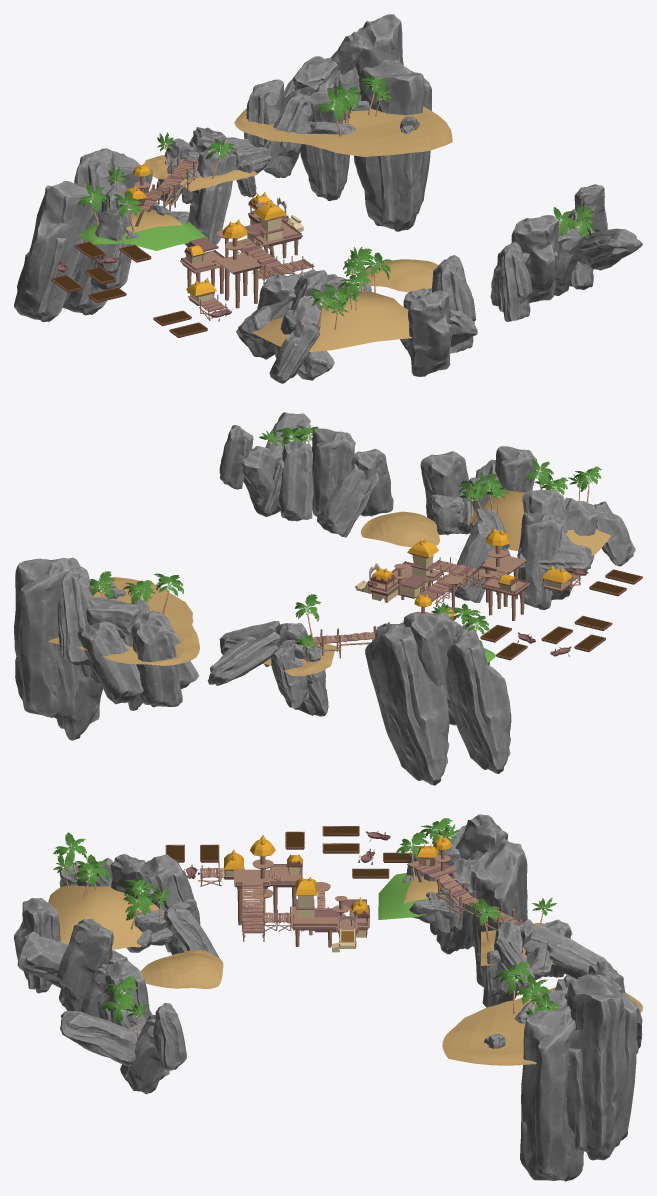
The model's file is Cattac_ChinampasLevel.fbx.
3 views of the same model, one above another, from view 1: azimuth 30°, elevation 25°; view 2: azimuth 150°, elevation 25°; view 3: azimuth 270°, elevation 25° (orthographic). The views are drawn at different scales.
Visible parts, largest first — view 1: Large_rock_low__2__001.018, Large_rock_low__2__001.013, Plane.004, Plane.003, Large_rock_low__2__001.029, Large_rock_low__2__001.005, Large_rock_low__2__001.015, Large_rock_low__2__001.007, Plane.001, Large_rock_low__3_.012, Large_rock_low__3_.014, Large_rock_low__2__001.021 (+28 smaller); view 2: Large_rock_low__2__001.012, Large_rock_low__2__001.021, Large_rock_low__2__001.013, Large_rock_low__3_.015, Large_rock_low__2__001.002, Large_rock_low__3_.016, Plane.004, Large_rock_low__2__001.020, Large_rock_low__2__001.005, Large_rock_low__3_.013, Large_rock_low__1_.010, Large_rock_low__1_.012 (+23 smaller); view 3: Large_rock_low__2__001.021, Large_rock_low__2__001.018, Plane.004, Large_rock_low__2__001.012, Plane.003, Large_rock_low__3_.018, Large_rock_low__1_.015, Plane.005, Large_rock_low__2__001.010, Large_rock_low__2__001.029, Large_rock_low__1_.013, Plane.001 (+20 smaller).
Part boxes in pixels (x1,y1,x2,y2): Large_rock_low__2__001.018: (354,59,431,231); Large_rock_low__2__001.013: (14,181,101,322); Plane.004: (234,106,452,156); Plane.003: (253,291,412,352); Large_rock_low__2__001.029: (408,290,452,376); Large_rock_low__2__001.005: (511,215,559,303); Large_rock_low__2__001.015: (300,91,350,201); Large_rock_low__2__001.007: (185,147,236,247); Plane.001: (79,209,207,250); Large_rock_low__3_.012: (497,242,532,321); Large_rock_low__3_.014: (263,93,312,177); Large_rock_low__2__001.021: (355,14,403,76); Large_rock_low__2__001.012: (365,623,449,785); Large_rock_low__2__001.021: (14,557,80,719); Large_rock_low__2__001.013: (446,634,511,773); Large_rock_low__3_.015: (131,622,182,707); Large_rock_low__2__001.002: (518,512,563,609); Large_rock_low__3_.016: (77,621,143,704); Plane.004: (48,577,199,665); Large_rock_low__2__001.020: (57,567,93,665); Large_rock_low__2__001.005: (312,428,355,516); Large_rock_low__3_.013: (403,611,456,704); Large_rock_low__1_.010: (279,440,313,521); Large_rock_low__1_.012: (317,464,378,537); Large_rock_low__2__001.021: (566,975,637,1160); Large_rock_low__2__001.018: (520,1006,583,1181); Plane.004: (442,987,642,1065); Large_rock_low__2__001.012: (471,838,527,987); Plane.003: (48,885,159,949); Large_rock_low__3_.018: (57,918,113,1011); Large_rock_low__1_.015: (60,1010,137,1066); Plane.005: (140,950,223,988); Large_rock_low__2__001.010: (523,924,606,978); Large_rock_low__2__001.029: (14,898,60,993); Large_rock_low__1_.013: (120,1015,165,1094); Plane.001: (378,873,448,920).
Bounding box in the file's own units: 74454 × 29195 × 81196.
